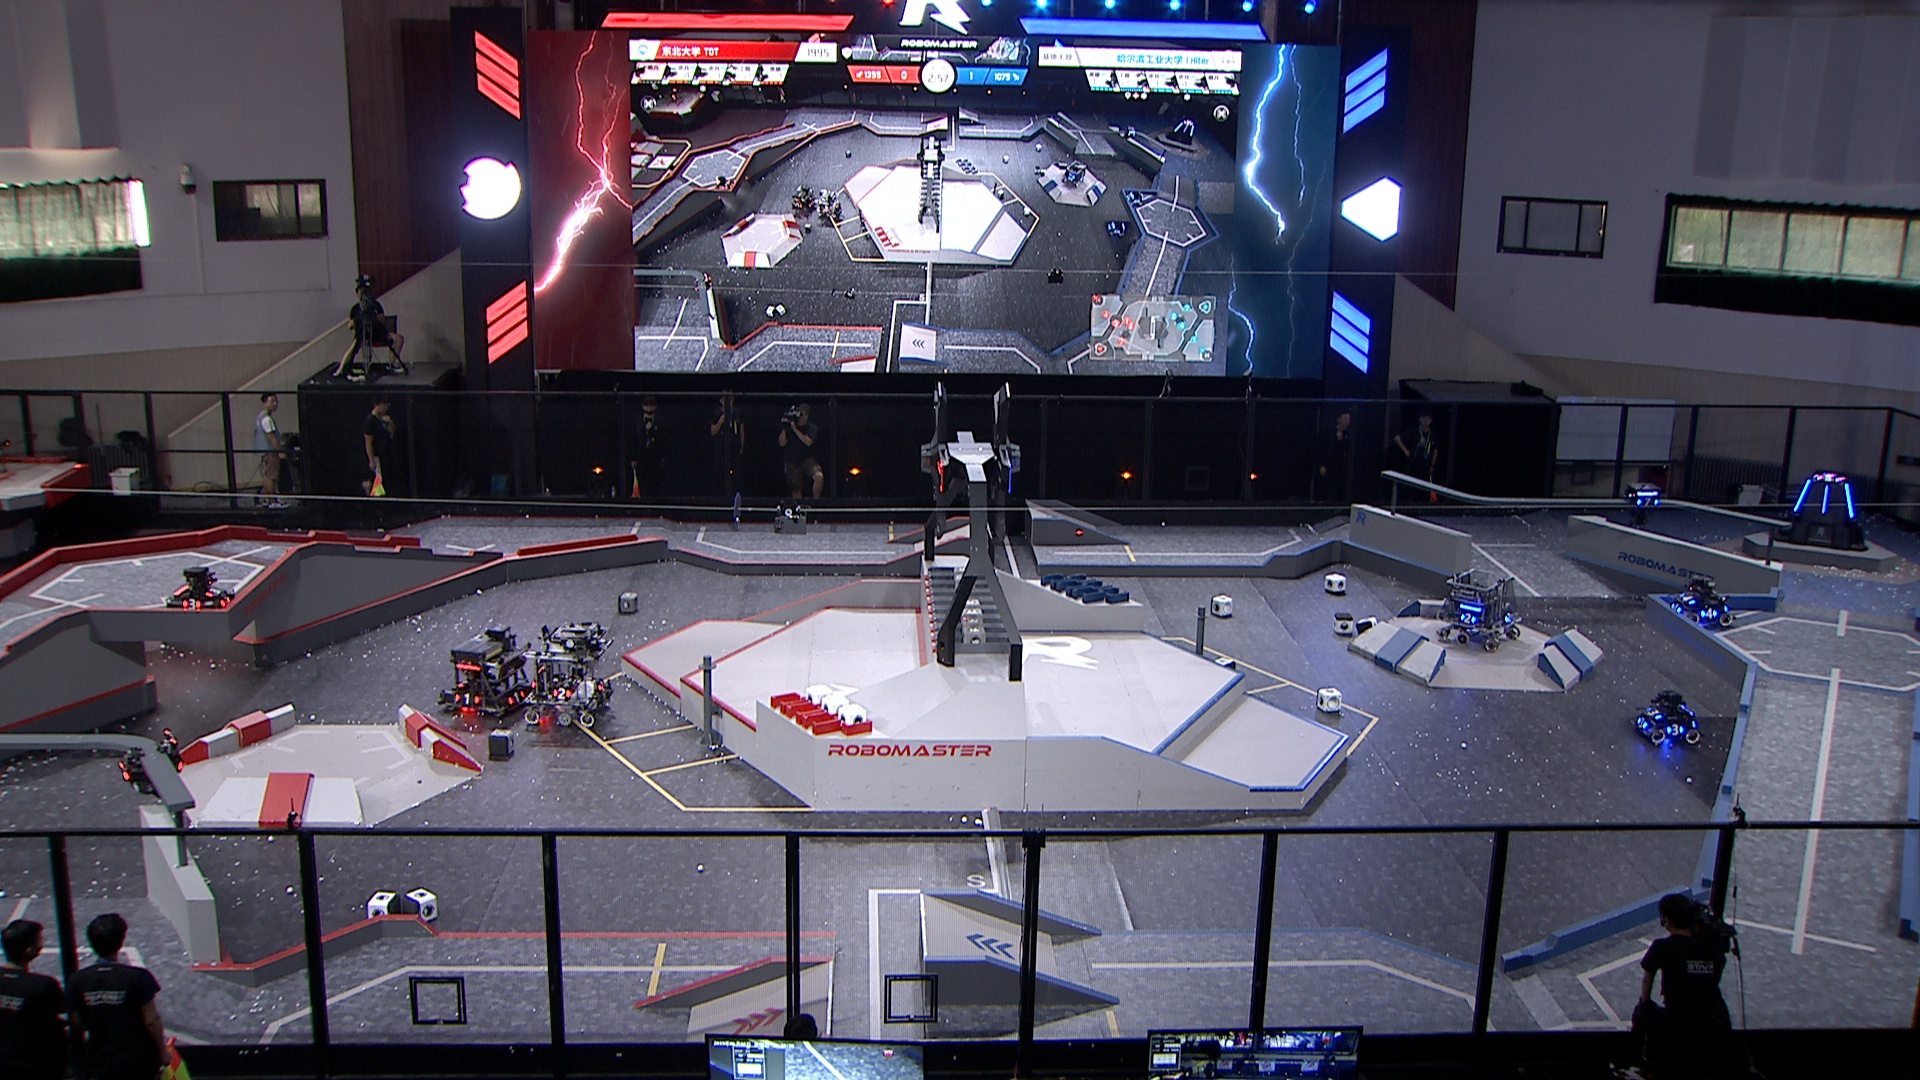armor: (1793, 475, 1815, 512), (1842, 481, 1859, 520), (448, 688, 481, 708), (112, 760, 136, 785), (505, 687, 527, 709), (1643, 702, 1665, 723), (1676, 589, 1697, 608), (1634, 495, 1660, 509), (1820, 483, 1832, 514), (1633, 713, 1652, 732), (179, 595, 200, 612), (1665, 723, 1687, 740), (1456, 611, 1480, 624), (551, 687, 574, 700), (218, 593, 235, 611), (202, 583, 220, 599), (1698, 608, 1718, 622), (593, 676, 609, 694), (1669, 600, 1684, 618), (1501, 609, 1515, 626)
base: (1770, 469, 1871, 556)
car: (517, 618, 615, 735), (438, 621, 537, 723), (1429, 564, 1528, 654), (1629, 688, 1705, 752), (162, 560, 243, 617), (1665, 575, 1745, 626)
ignore: (814, 190, 847, 225), (1059, 156, 1091, 189), (1166, 117, 1200, 148), (789, 183, 818, 218), (1102, 214, 1133, 240), (1812, 471, 1849, 484)
watcher: (109, 721, 191, 803), (1619, 480, 1664, 531)
